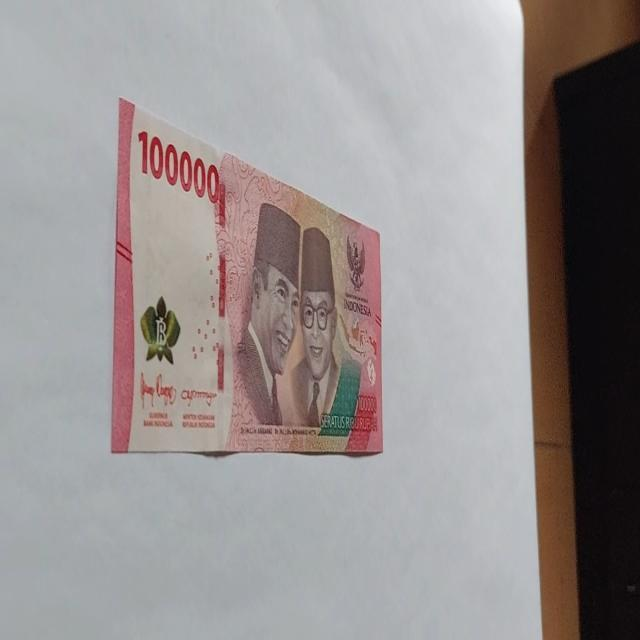seratus ribu rupiah: (110, 95, 384, 458)
